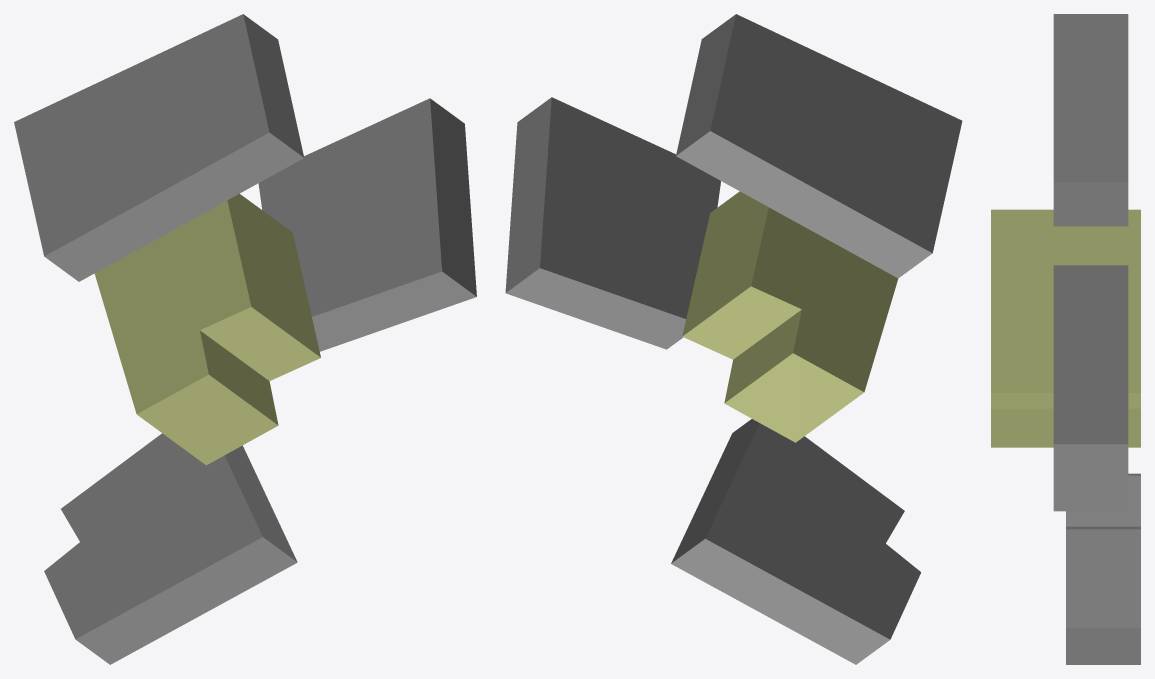
3 views of the same model, side by side, from view 1: azimuth 30°, elevation 25°; view 2: azimuth 150°, elevation 25°; view 3: azimuth 270°, elevation 25° (orthographic). The views are drawn at different scales.
Parts seen in each view (by area): view 1: 0_1_0_2_1_3_2_0_0_2; view 2: 0_1_0_2_1_3_2_0_0_2; view 3: 0_1_0_2_1_3_2_0_0_2.
Boxes of the visible parts, x1,y1,x2,y2 form: 0_1_0_2_1_3_2_0_0_2: (14,14,476,664); 0_1_0_2_1_3_2_0_0_2: (505,14,962,664); 0_1_0_2_1_3_2_0_0_2: (991,14,1140,664).
Bounding box in the file's own units: 21.27 × 28.02 × 6.
